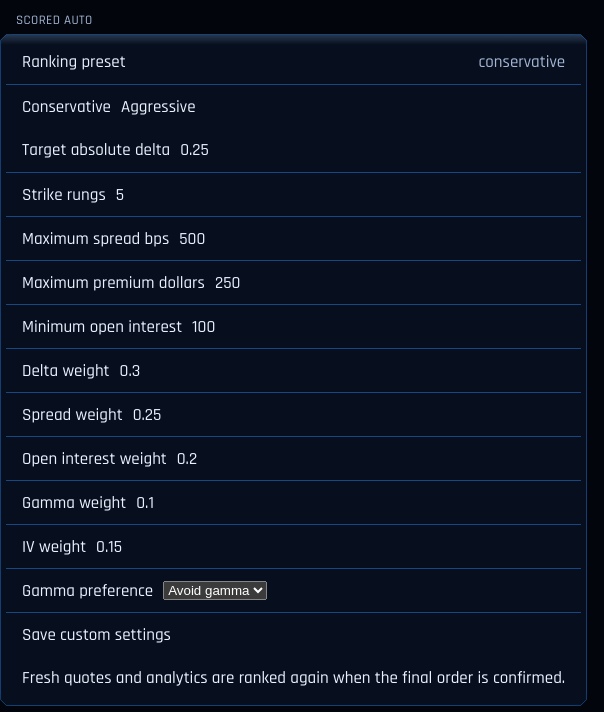
Test case: AutoScoringSettings › loads the user preference and persists a selected preset
Click the button "Aggressive" at [158, 106], box [121,96,196,118]
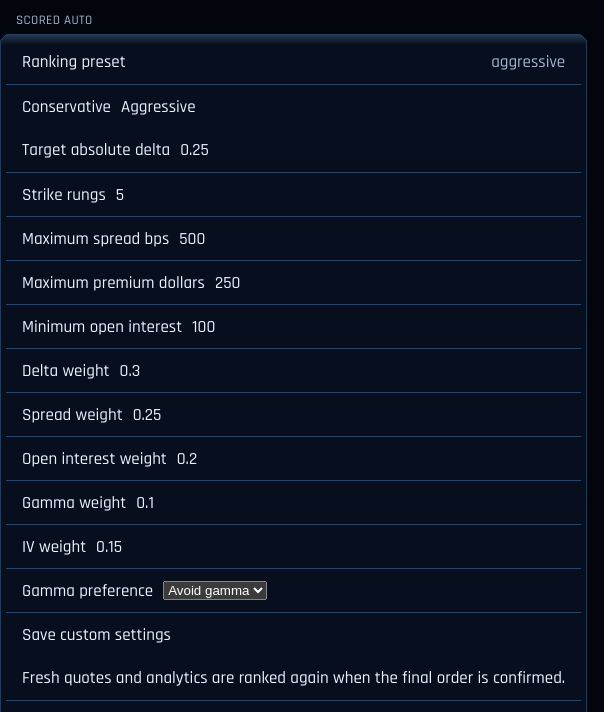
Result: the message "aggressive" is shown at [491,51,565,73]
